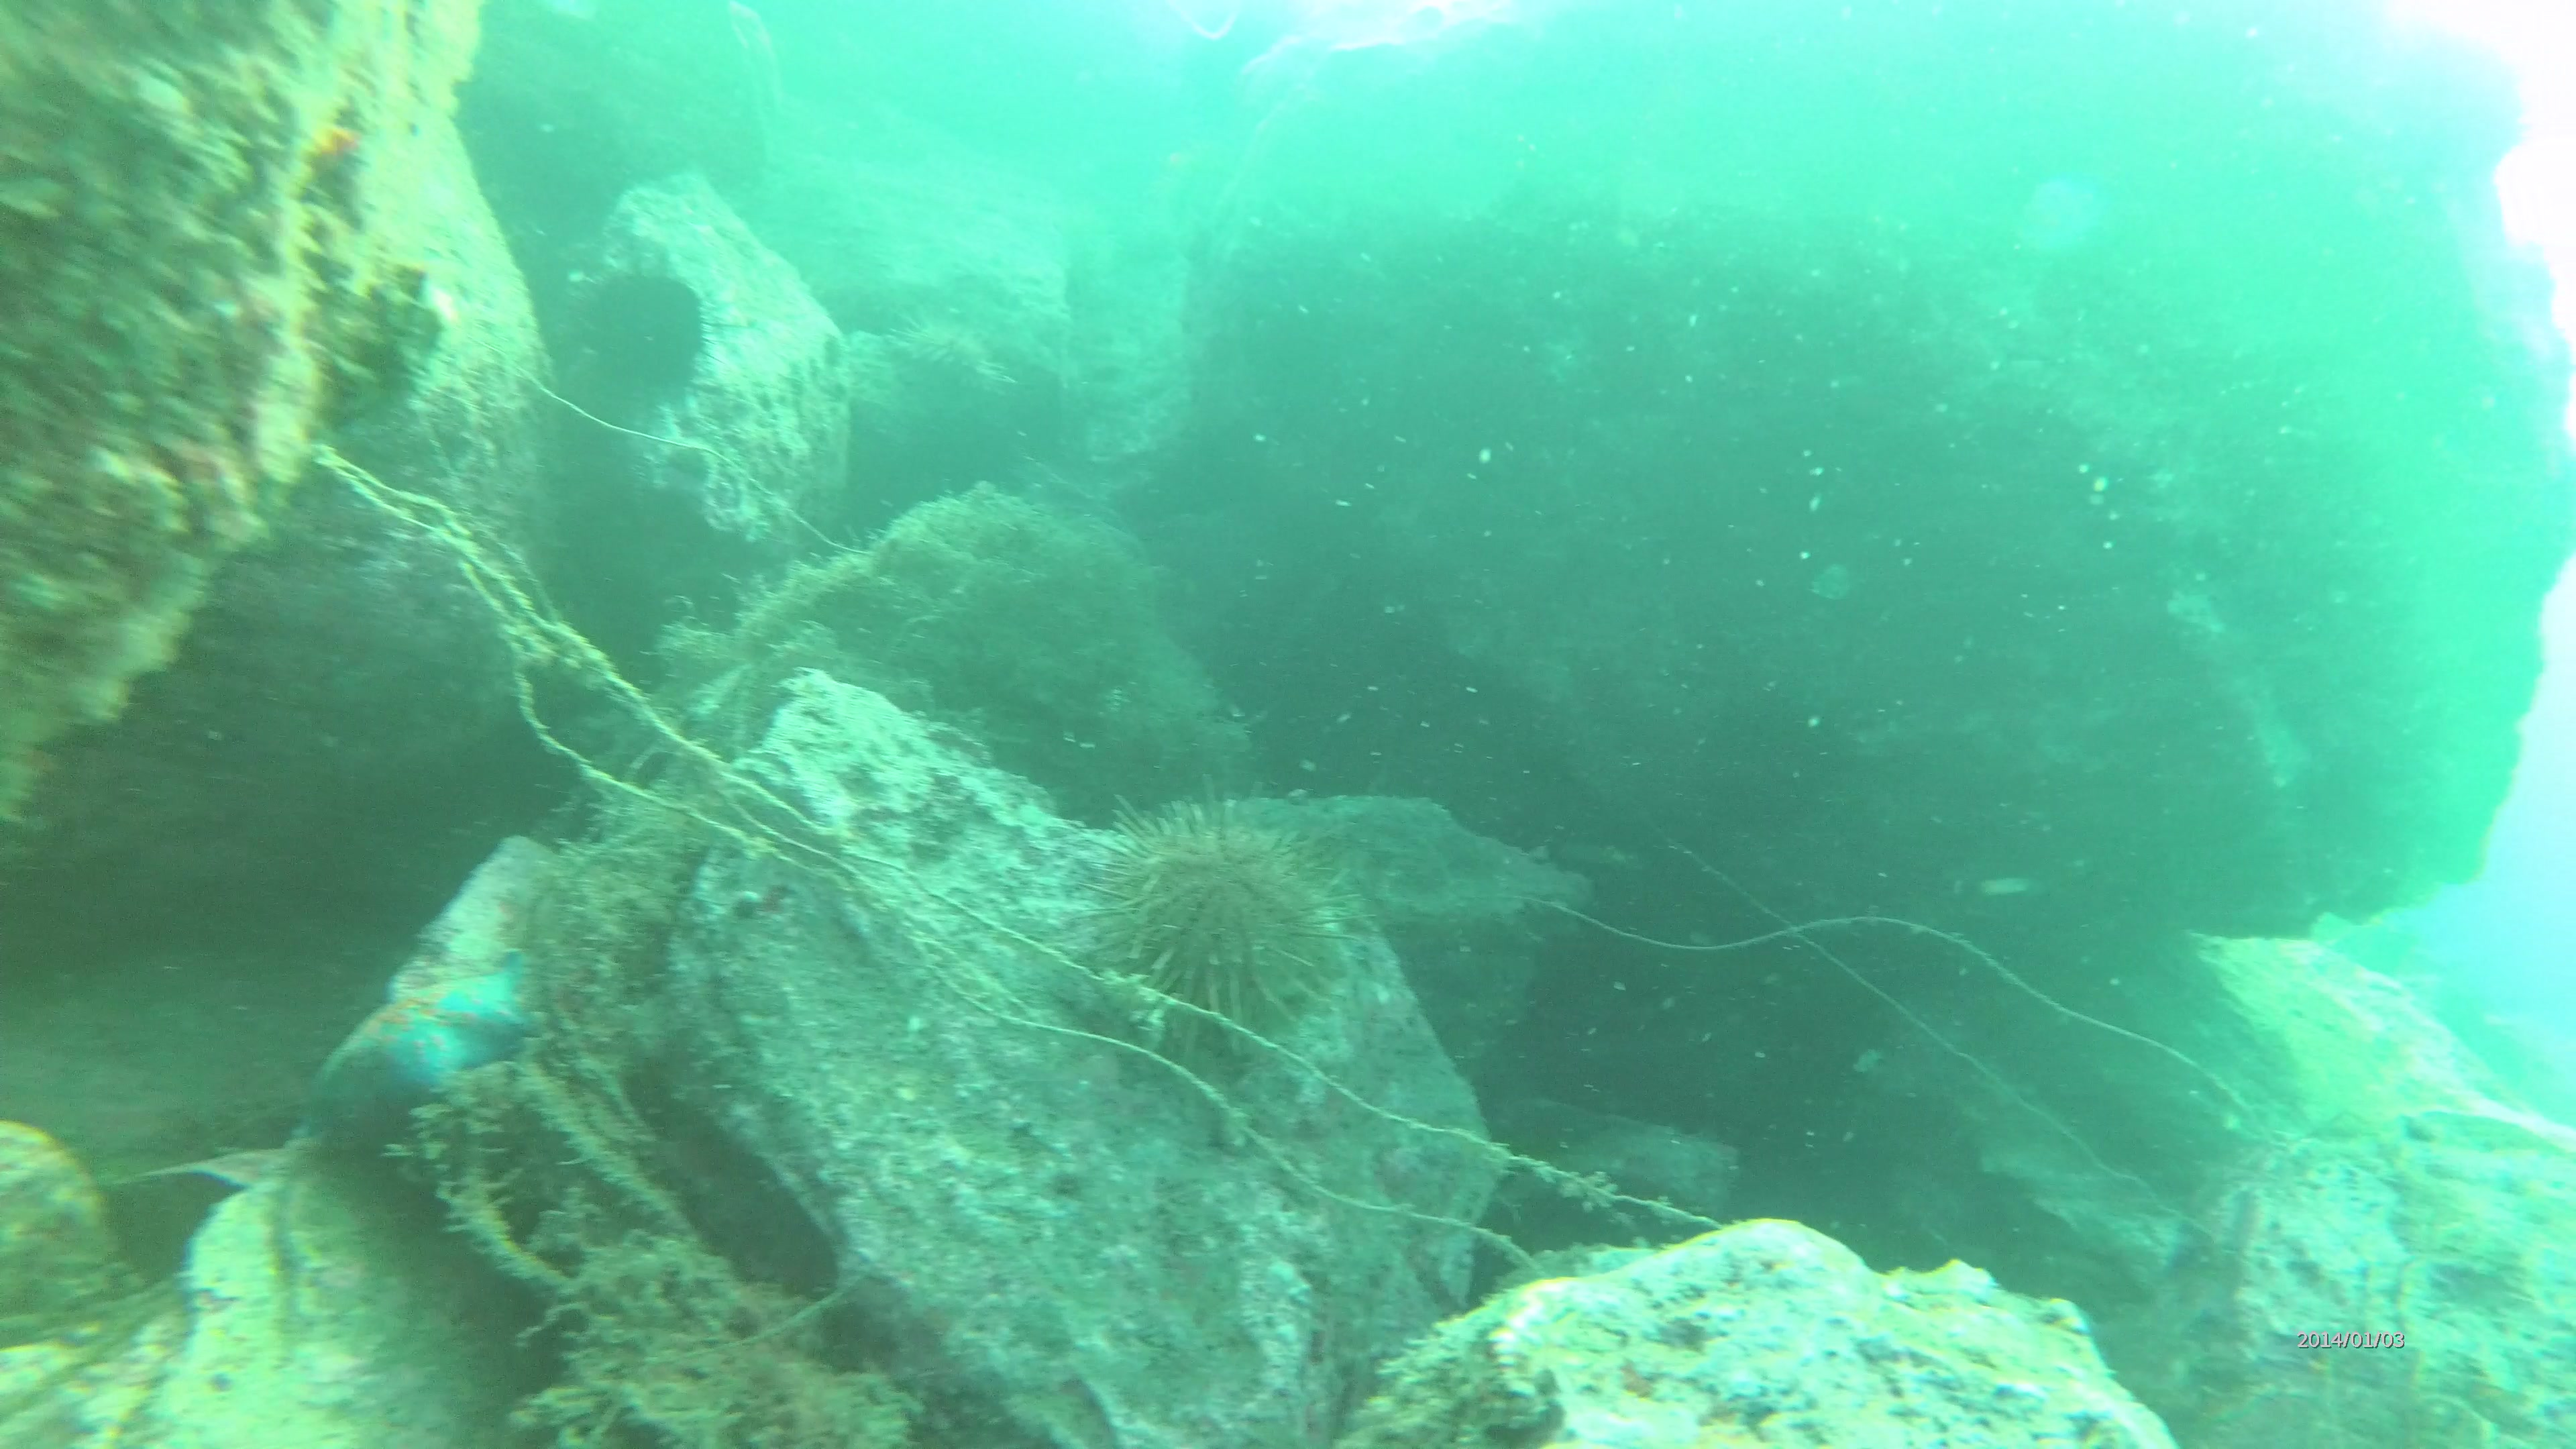echinus: (1090, 791, 1345, 1030)
starfish: (308, 968, 538, 1145)
